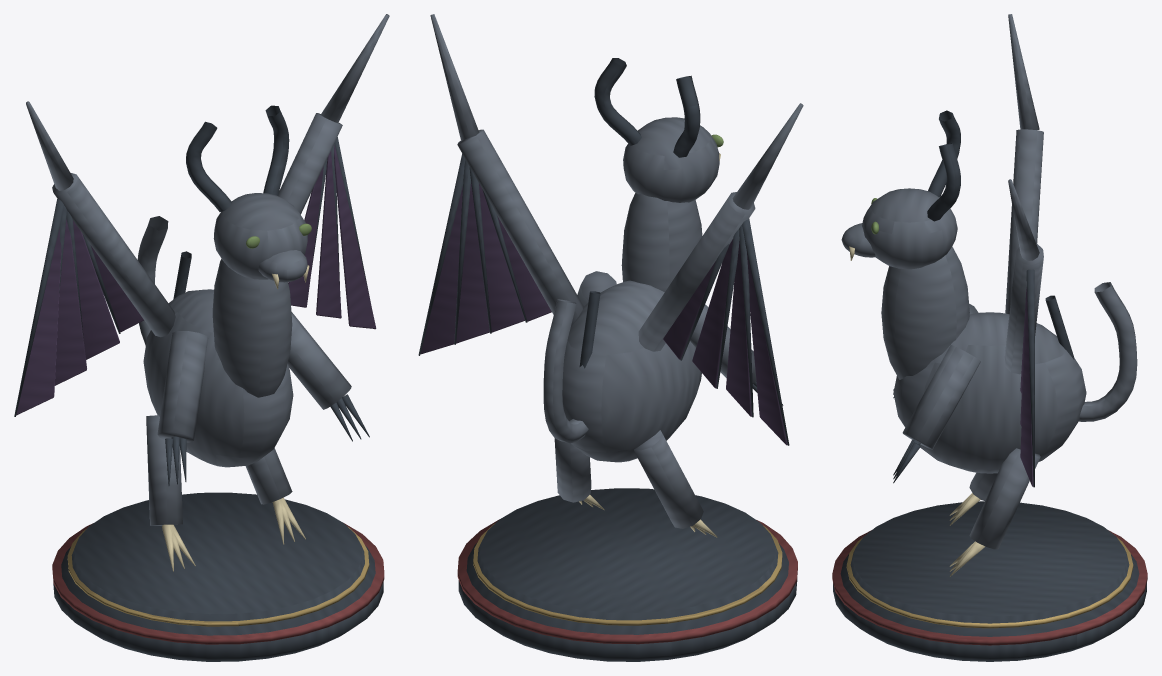
The model's file is gargoyle.glb.
The picture shows the model from 3 angles, left to right: view 1: azimuth 30°, elevation 25°; view 2: azimuth 150°, elevation 25°; view 3: azimuth 270°, elevation 25°; orthographic projection. The views are drawn at different scales.
Parts seen in each view (by area): view 1: CharacterMesh; view 2: CharacterMesh; view 3: CharacterMesh.
Boxes of the visible parts, x1,y1,x2,y2 form: CharacterMesh: [14, 14, 389, 661]; CharacterMesh: [418, 14, 803, 661]; CharacterMesh: [832, 14, 1147, 661].
Size of the model in its own units: 0.9888 by 1.38 by 0.784.
7 materials, 7 textured.
